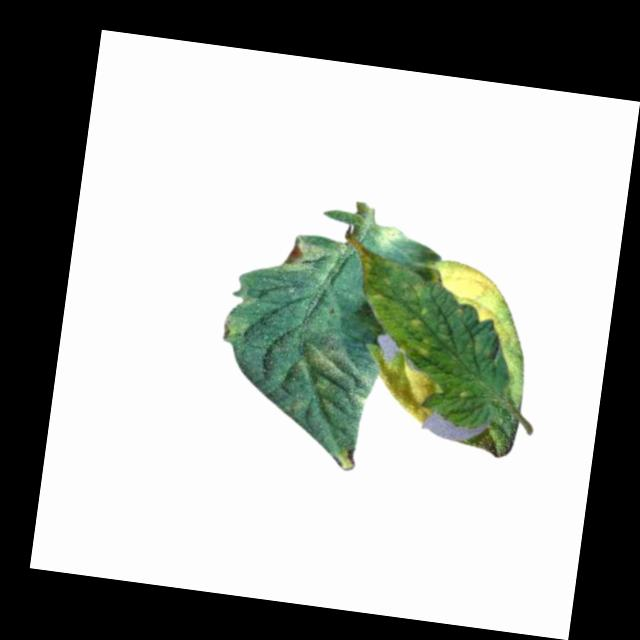Leaf_Mold: (351, 249, 432, 351), (426, 257, 520, 344), (376, 352, 439, 424), (295, 341, 346, 388), (282, 232, 329, 278), (219, 312, 251, 348), (373, 221, 402, 252)
